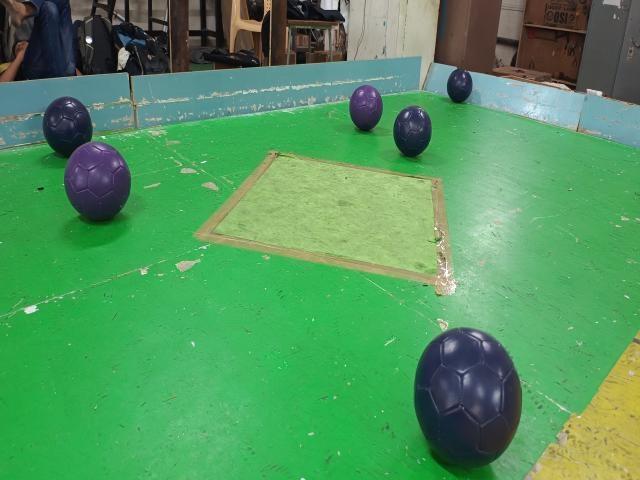jambhalya: (65, 142, 131, 220), (350, 85, 382, 130)
kaalyya: (415, 328, 522, 468), (42, 97, 92, 157), (394, 105, 431, 157), (446, 68, 472, 103)
